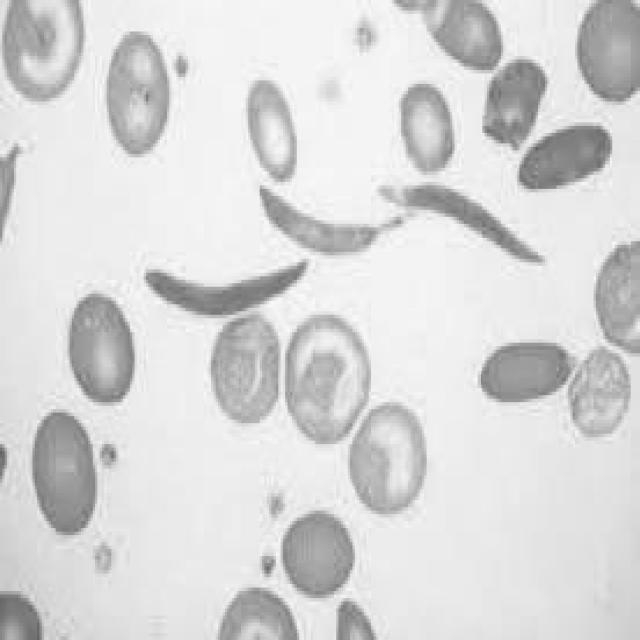RBC: (281, 308, 378, 451), (102, 17, 176, 175), (345, 392, 436, 518), (207, 297, 286, 441), (26, 402, 104, 542), (67, 272, 142, 412), (239, 63, 301, 192), (397, 84, 459, 182)
sickle cell: (371, 175, 547, 294), (139, 245, 315, 329), (249, 182, 414, 269)
